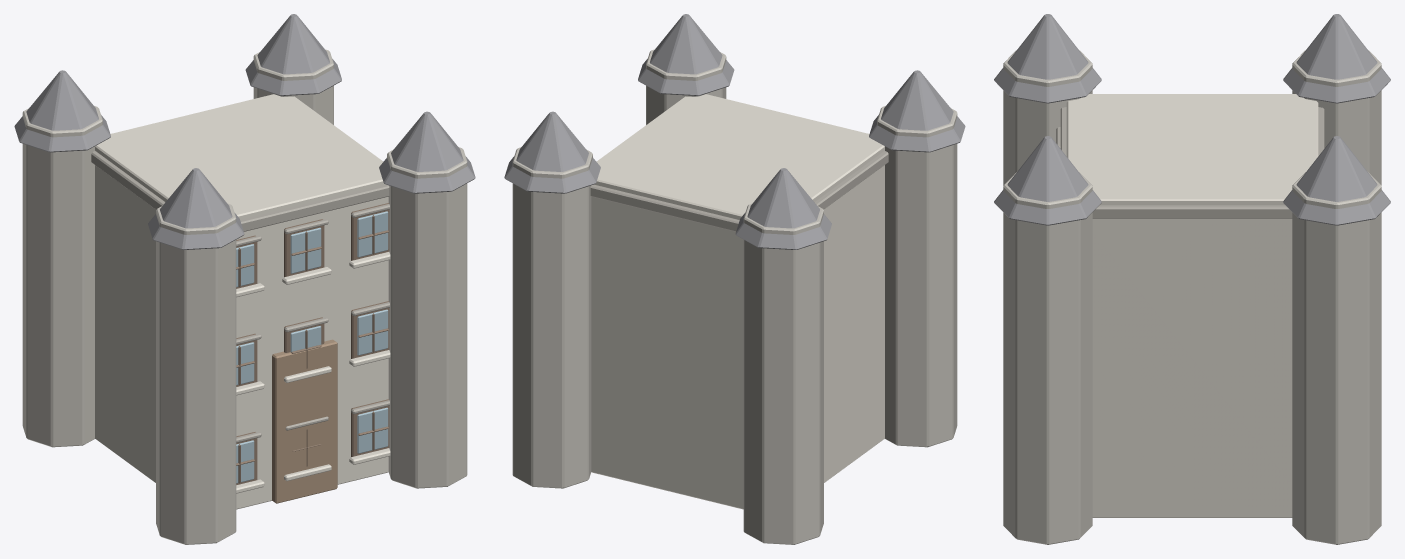
File: castle.glb
3 views of the same model, side by side, from view 1: azimuth 30°, elevation 25°; view 2: azimuth 150°, elevation 25°; view 3: azimuth 270°, elevation 25° (orthographic). The views are drawn at different scales.
Parts seen in each view (by area): view 1: keep, tower, tower.002, tower.001, gate, troof, troof.001, troof.002, troof.003, band, tower.003, wglass.007 (+11 smaller); view 2: keep, tower.001, tower.003, tower, troof, troof.001, troof.002, troof.003, band, tower.002; view 3: keep, tower.002, tower.003, troof.002, troof.003, troof, troof.001, tower.001, tower, band.
Part boxes in pixels (x1,y1,x2,y2): keep: (95, 94, 388, 509); tower: (156, 203, 236, 544); tower.002: (387, 147, 467, 488); tower.001: (22, 106, 102, 447); gate: (272, 339, 337, 503); troof: (148, 168, 244, 249); troof.001: (14, 70, 110, 152); troof.002: (379, 111, 475, 193); troof.003: (245, 14, 341, 95); band: (91, 151, 389, 231); tower.003: (253, 49, 333, 124); wglass.007: (290, 227, 321, 273); keep: (591, 94, 884, 509); tower.001: (743, 203, 823, 544); tower.003: (512, 147, 592, 488); tower: (877, 106, 957, 447); troof: (869, 70, 965, 152); troof.001: (735, 168, 831, 249); troof.002: (638, 14, 734, 95); troof.003: (504, 111, 600, 193); band: (590, 151, 888, 231); tower.002: (646, 49, 726, 124); keep: (1066, 94, 1318, 517); tower.002: (1003, 172, 1092, 544); tower.003: (1292, 172, 1381, 544); troof.002: (994, 136, 1101, 225); troof.003: (1283, 136, 1390, 225); troof: (994, 14, 1101, 103); troof.001: (1283, 14, 1390, 103); tower.001: (1292, 50, 1381, 184); tower: (1003, 50, 1092, 184); band: (1060, 107, 1324, 218).
Size of the model in its own units: 3.16 by 3.41 by 3.16.
